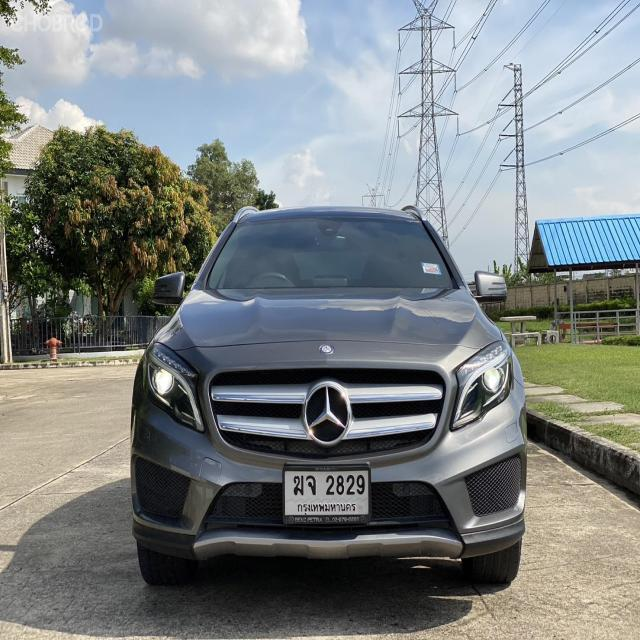license_plate: (282, 460, 372, 526)
